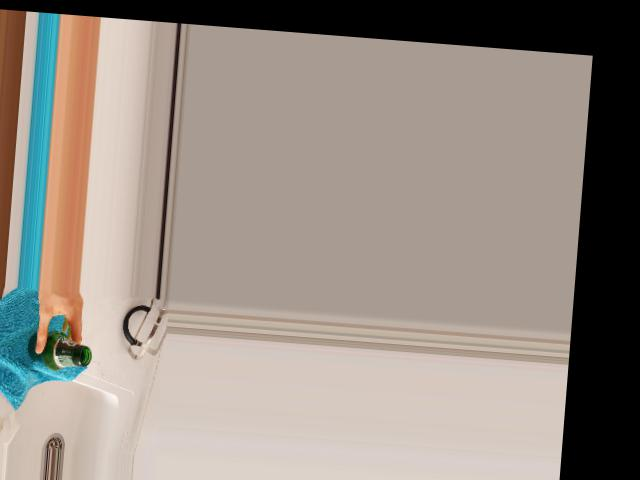beer: (25, 331, 91, 372)
